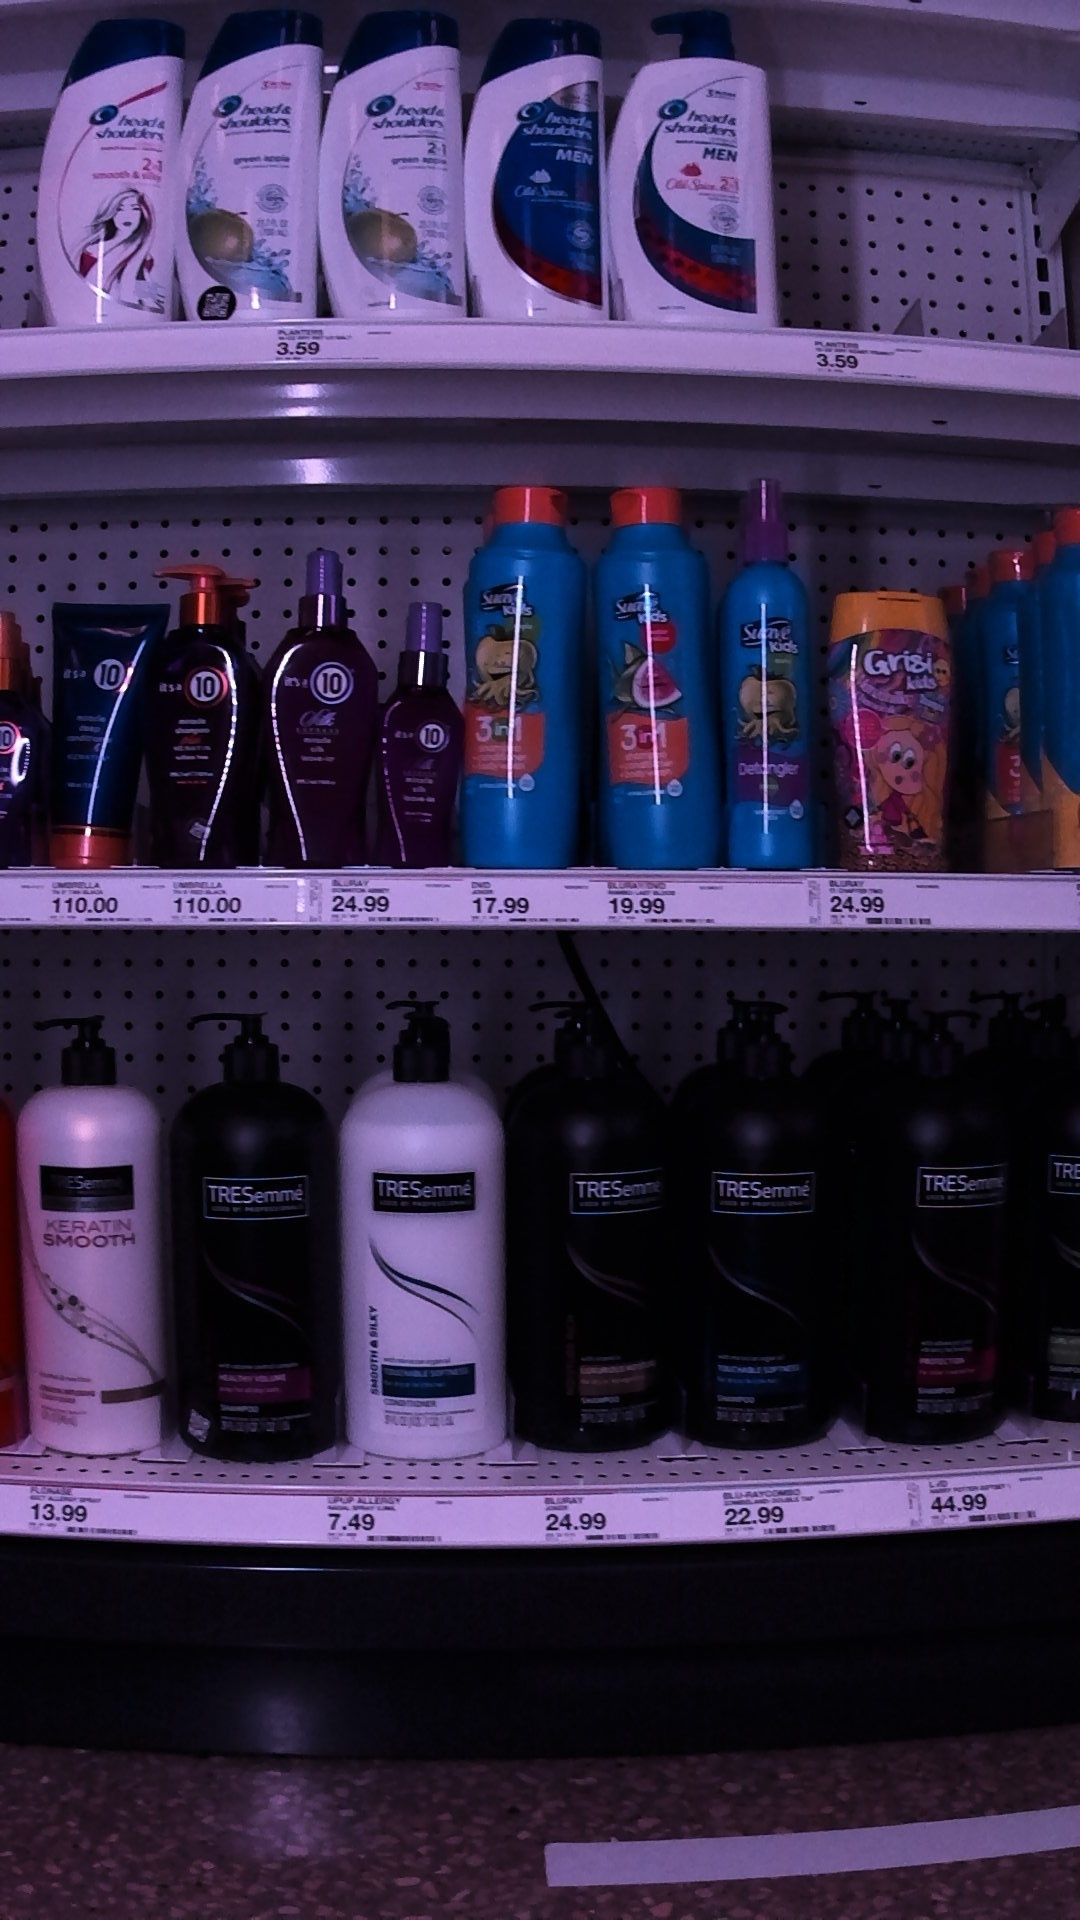ptag: (318, 1482, 458, 1555), (709, 1473, 849, 1545), (535, 1480, 666, 1553), (899, 1472, 1051, 1531), (811, 869, 942, 938), (802, 326, 928, 393), (20, 1476, 144, 1544), (600, 873, 723, 942), (322, 872, 442, 938), (169, 864, 293, 926), (260, 322, 400, 375), (473, 866, 575, 934), (49, 872, 152, 934)
